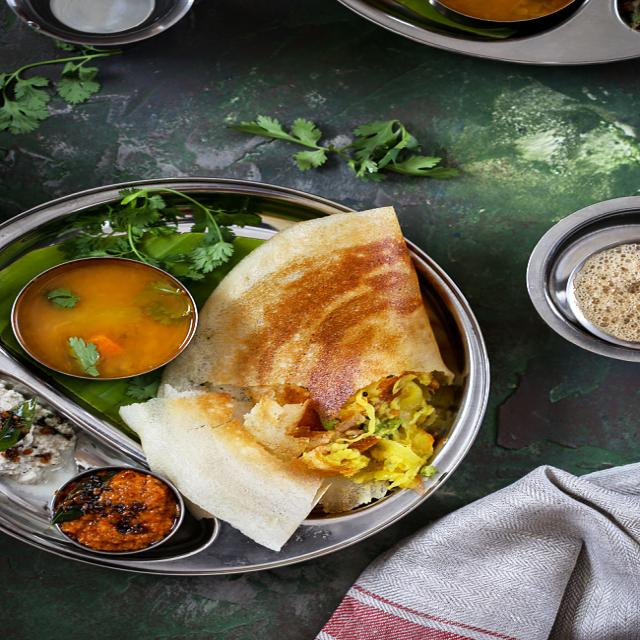masala_dosa: (205, 211, 476, 532)
sambhar: (14, 265, 199, 387)
